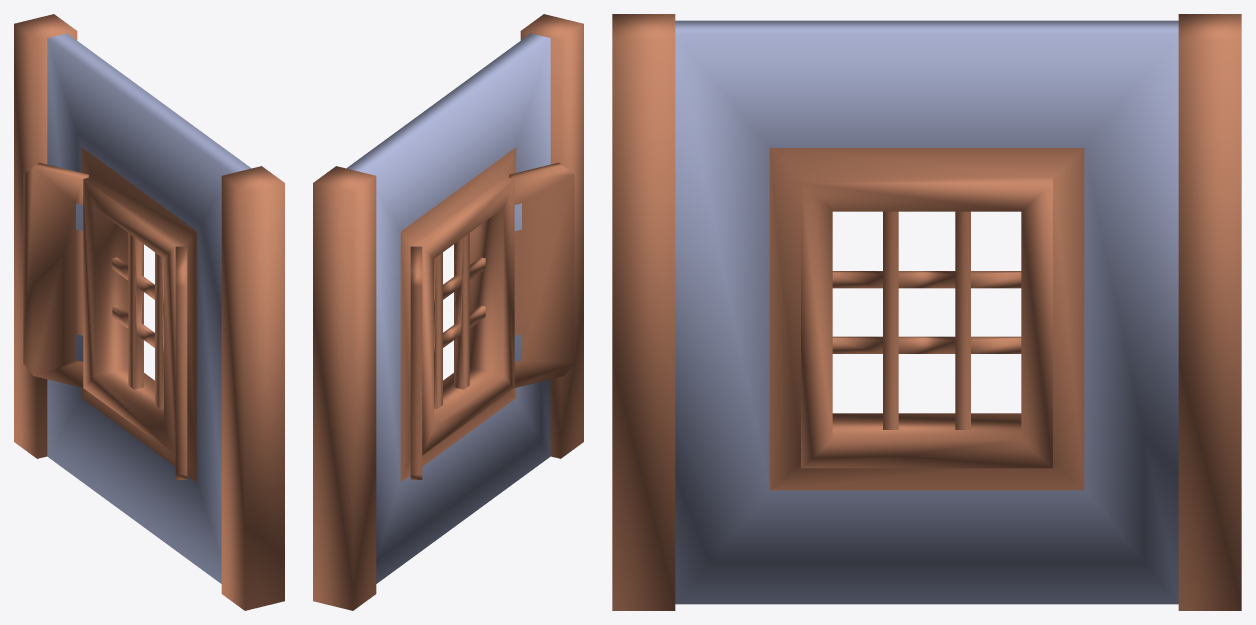
The model's file is wall-window-shutters.glb.
The picture shows the model from 3 angles, left to right: view 1: azimuth 30°, elevation 25°; view 2: azimuth 150°, elevation 25°; view 3: azimuth 270°, elevation 25°; orthographic projection. The views are drawn at different scales.
Visible parts, largest first — view 1: wall-window-shutters; view 2: wall-window-shutters; view 3: wall-window-shutters.
Part boxes in pixels (left/top/right/bottom): wall-window-shutters: left=14, top=14, right=284, bottom=610; wall-window-shutters: left=313, top=14, right=583, bottom=610; wall-window-shutters: left=612, top=14, right=1241, bottom=610.
Bounding box in the file's own units: 0.35 × 2 × 2.
Materials: 1 (1 with a texture image).
